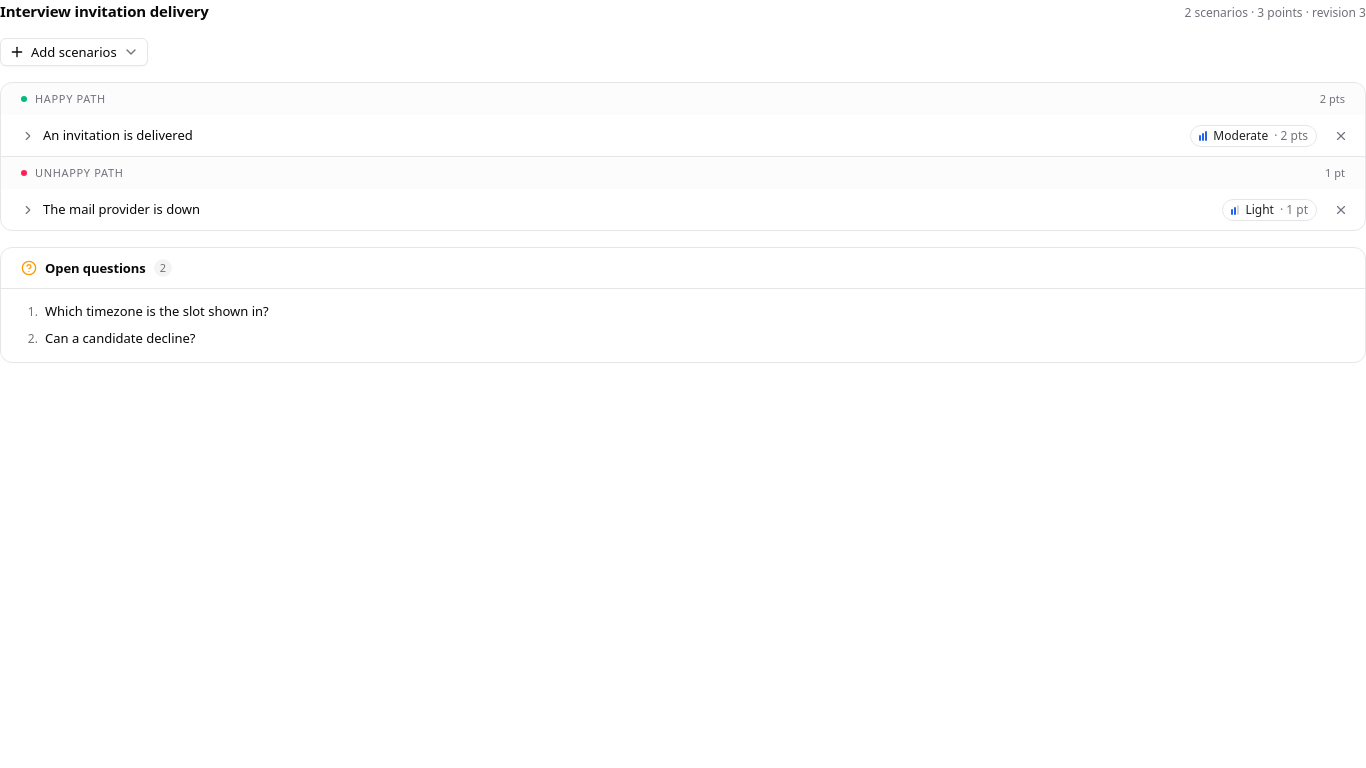
Scenario: a scenario is taken out after the reviewer confirms
Click the button named "Remove scenario: The mail provider is down". click: (1341, 210)
box: [1329,198,1353,222]
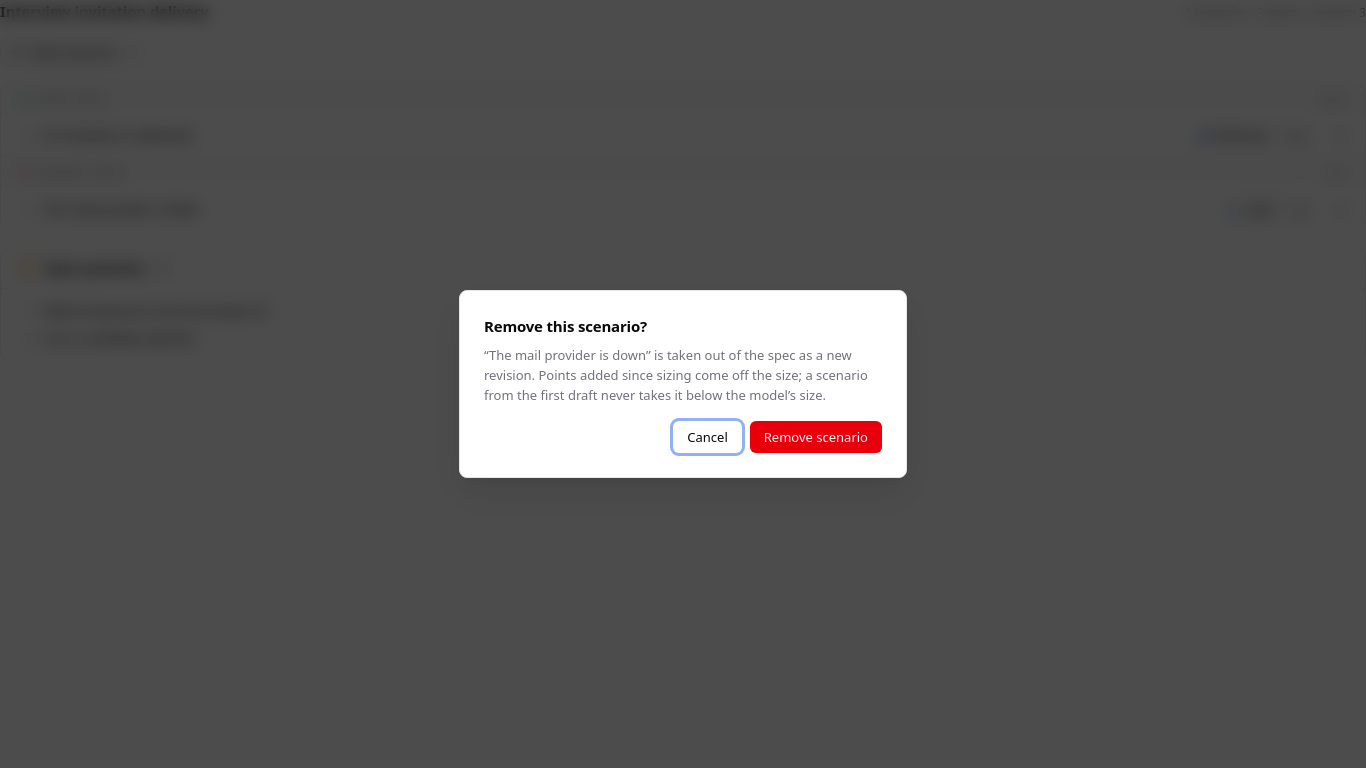
Expected: the dialog shows "The mail provider is down", [489,346,646,364]
Click the button "Remove scenario". click: (816, 437)
box: [750,421,882,453]
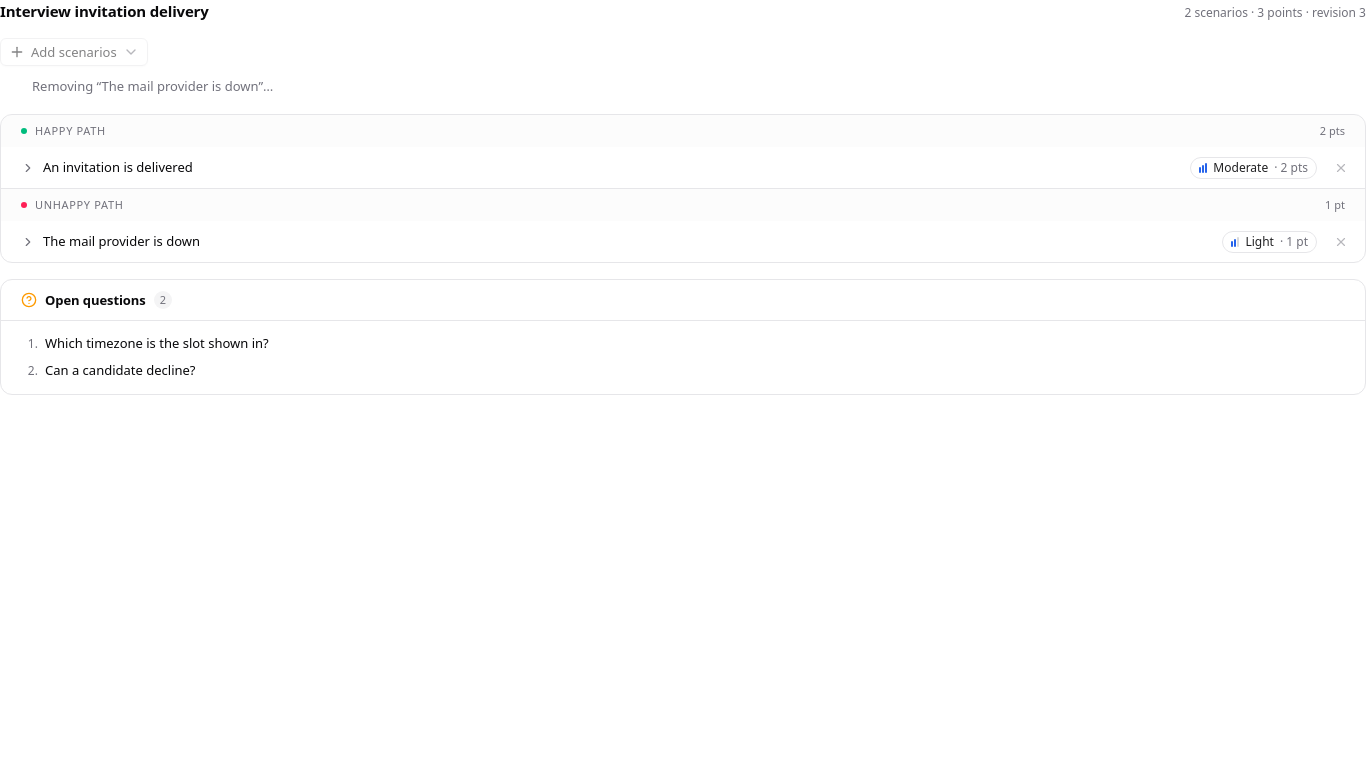
Expected: the text "Removing “The mail provider is down”…" is shown, [32,76,273,96]
